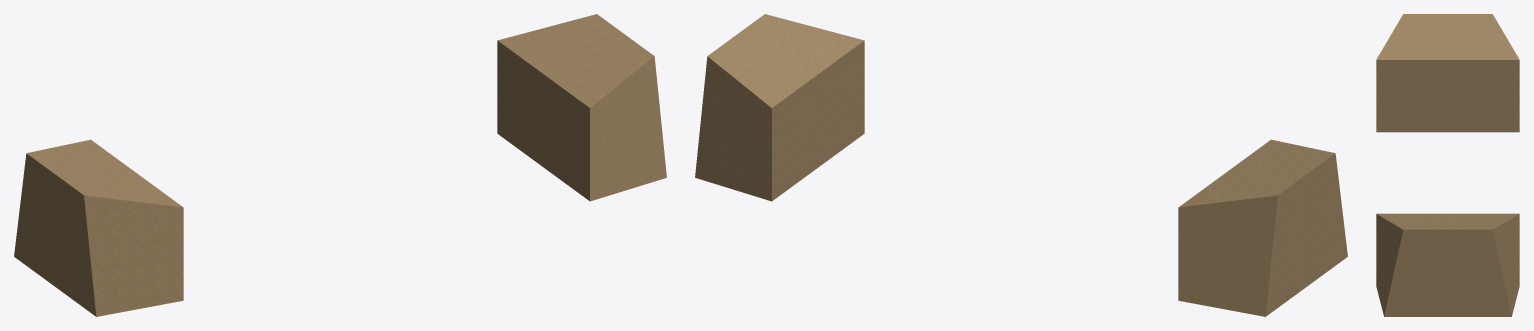
File: yong-apron-LOD1.glb
3 views of the same model, side by side, from view 1: azimuth 30°, elevation 25°; view 2: azimuth 150°, elevation 25°; view 3: azimuth 270°, elevation 25° (orthographic). The views are drawn at different scales.
Visible parts, largest first — view 1: retained_adapter_positive, retained_adapter_negative; view 2: retained_adapter_positive, retained_adapter_negative; view 3: retained_adapter_negative, retained_adapter_positive.
Part boxes in pixels (box(x1,y1,x2,y2)): retained_adapter_positive: box(497, 14, 666, 201); retained_adapter_negative: box(14, 139, 183, 316); retained_adapter_positive: box(695, 14, 864, 201); retained_adapter_negative: box(1178, 139, 1347, 316); retained_adapter_negative: box(1376, 14, 1519, 132); retained_adapter_positive: box(1376, 213, 1519, 316).
Size of what is drawn, in the model's own units: 32 by 6.03 by 9.
1 material, 1 textured.
